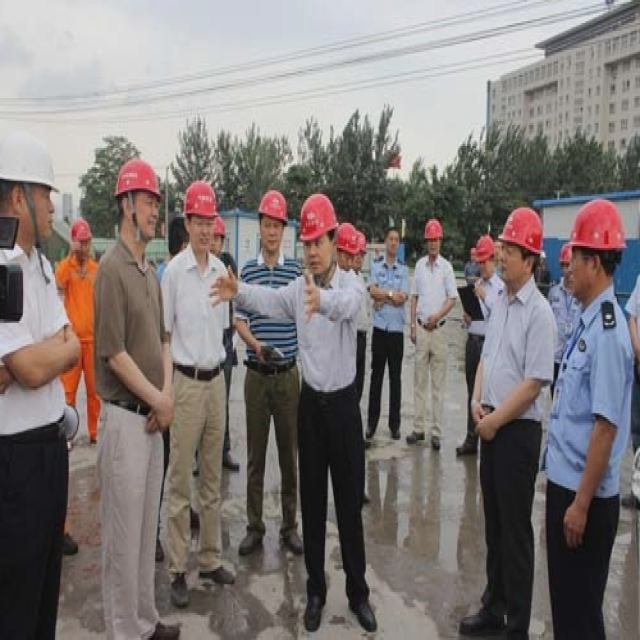Con_Casco: (570, 199, 626, 299), (496, 206, 543, 281), (298, 194, 339, 270)
Sin_Chaleco: (95, 241, 165, 408), (484, 287, 558, 417), (161, 250, 231, 375)
